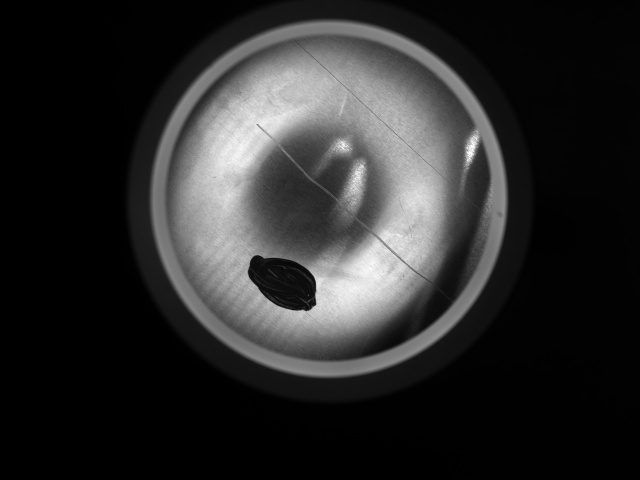ca_shang: (292, 38, 486, 213), (254, 121, 444, 297)
zang_wu: (248, 253, 318, 311)
